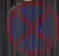No Stopping: (3, 1, 56, 50)
